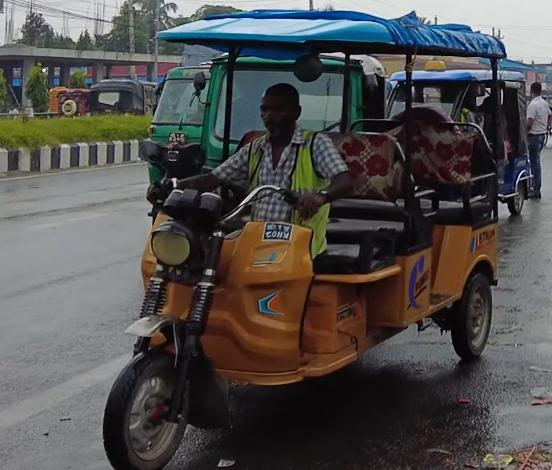e-rickshaw: (93, 3, 518, 470)
